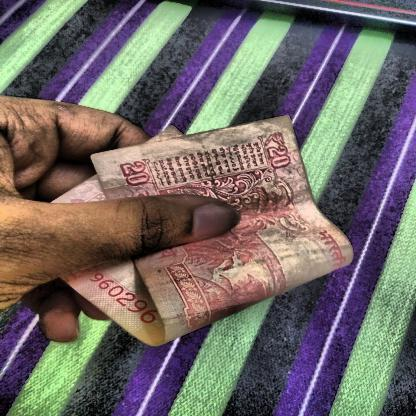Rs20: (259, 129, 299, 174), (115, 156, 157, 191)
